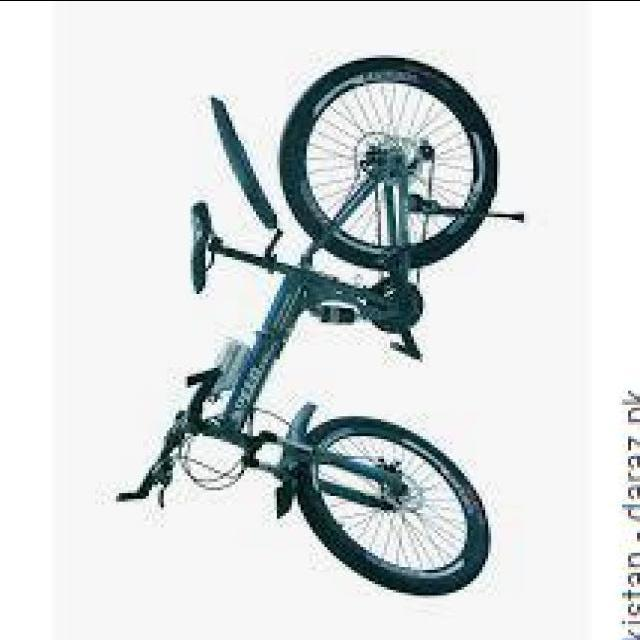bicycle: (132, 72, 546, 607)
